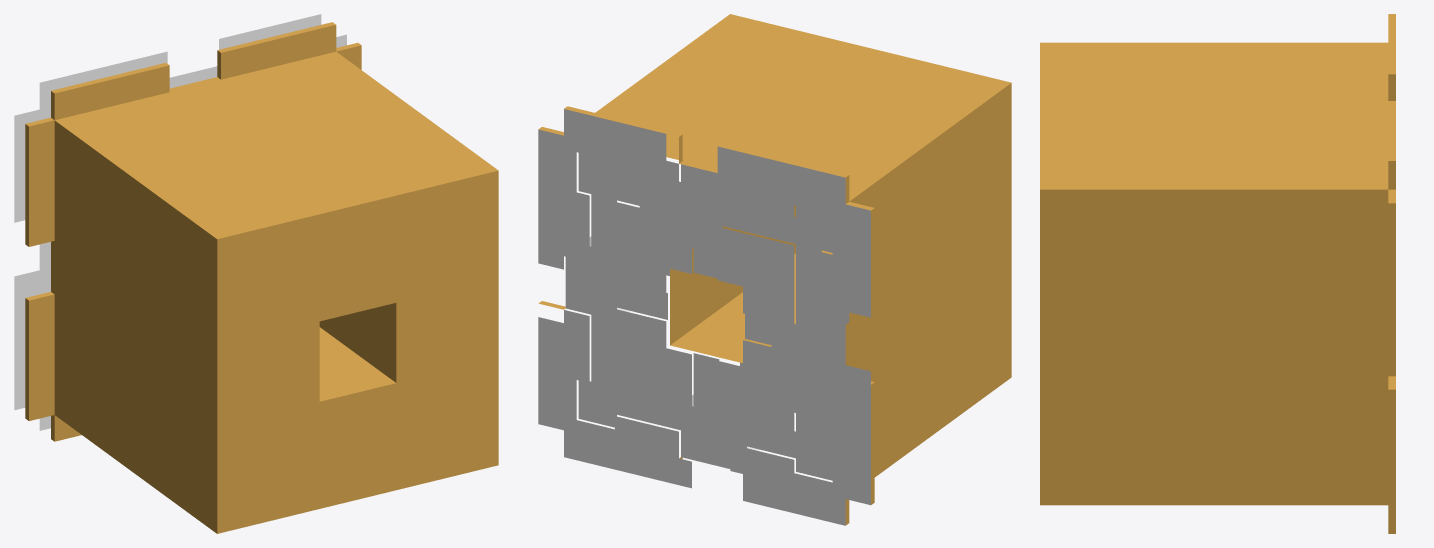
The model's file is grounds.glb.
3 renders of one model, left to right at view 1: azimuth 30°, elevation 25°; view 2: azimuth 150°, elevation 25°; view 3: azimuth 270°, elevation 25°, orthographic. The views are drawn at different scales.
Visible parts, largest first — view 1: s_grounds, g_grounds; view 2: g_grounds, s_grounds; view 3: s_grounds.
Boxes of the visible parts, bbox=[...] form: s_grounds: bbox=[25, 22, 498, 533]; g_grounds: bbox=[14, 14, 346, 430]; g_grounds: bbox=[538, 109, 870, 525]; s_grounds: bbox=[538, 14, 1011, 525]; s_grounds: bbox=[1040, 14, 1395, 533].
Size of the model in its own units: 52 by 52 by 48.
